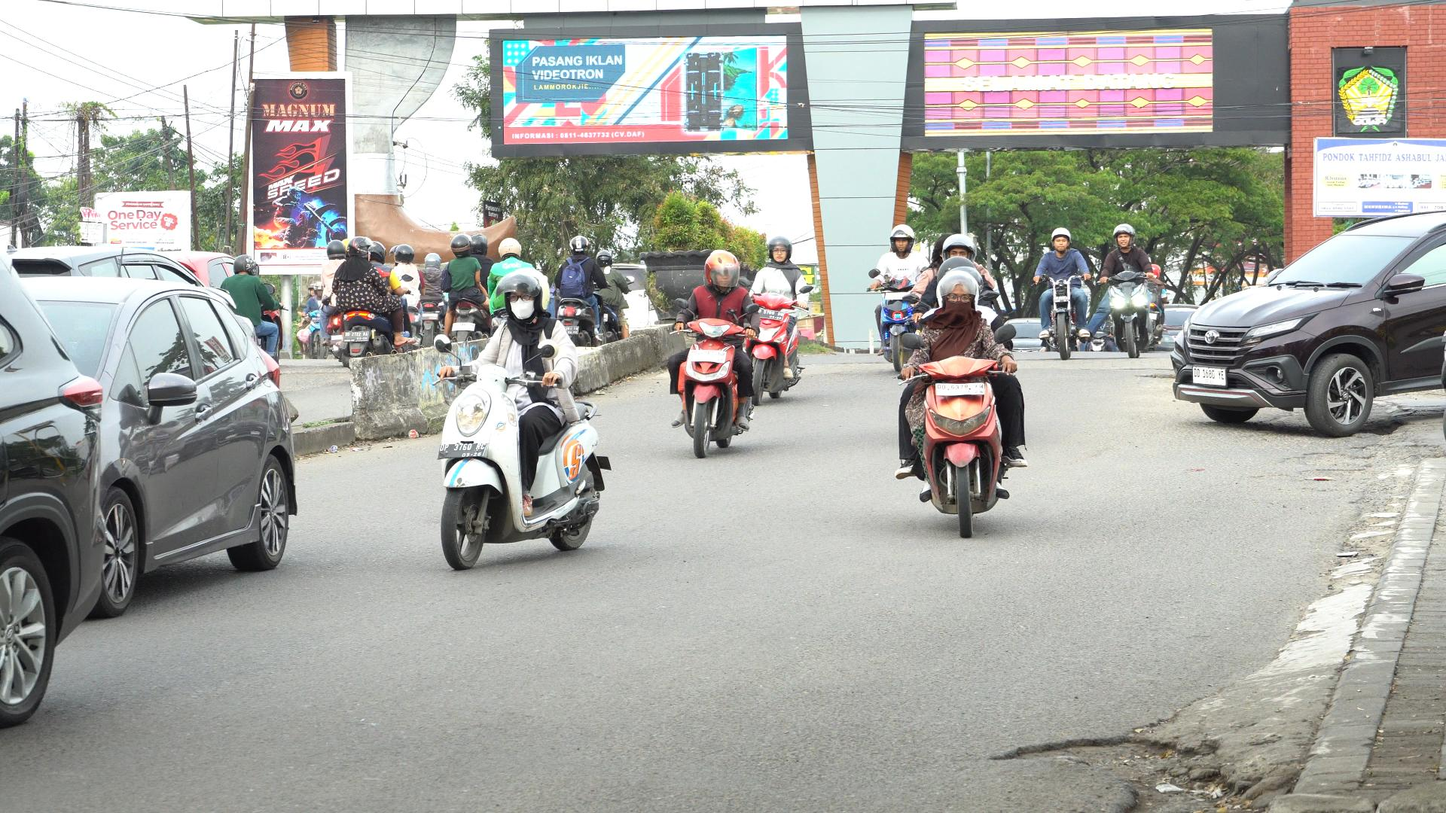number-plate: (437, 437, 495, 463)
